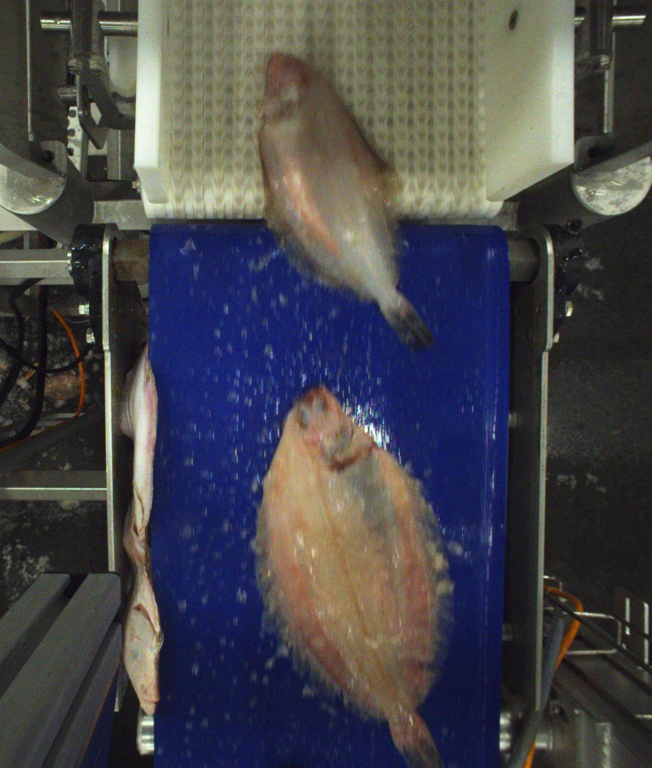WIT: (258, 55, 435, 350)
